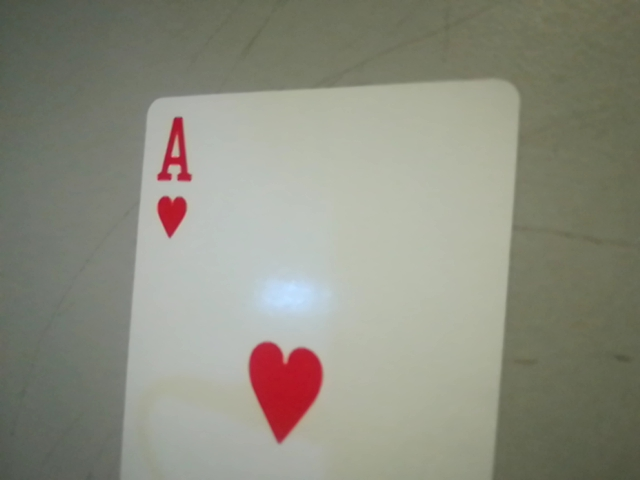hx a: (141, 107, 206, 248)
